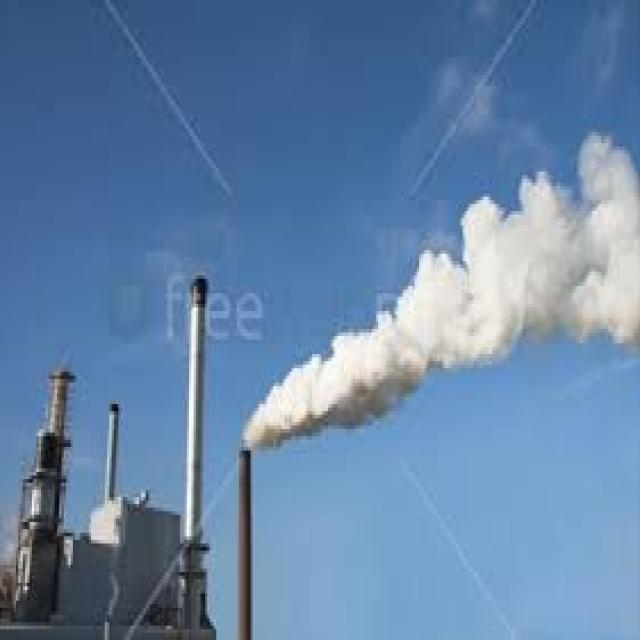Smoke: (241, 128, 640, 454)
